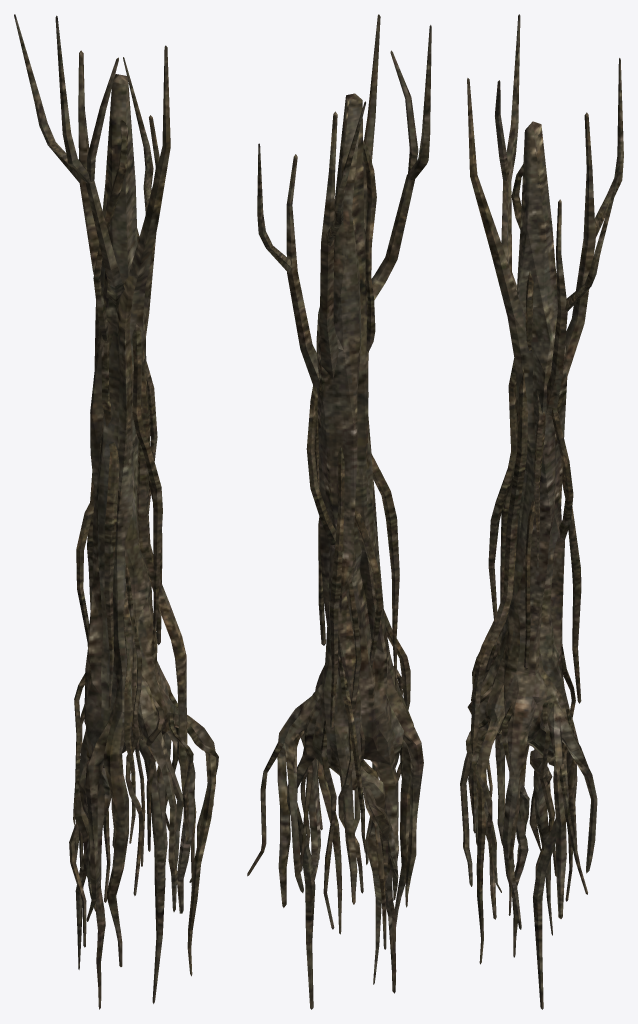
The model's file is bg_anh_tree_te_t01_01_sm_phs.FBX.
The picture shows the model from 3 angles, left to right: view 1: azimuth 30°, elevation 25°; view 2: azimuth 150°, elevation 25°; view 3: azimuth 270°, elevation 25°; orthographic projection. The views are drawn at different scales.
Visible parts, largest first — view 1: bg_anh_tree_te_t01_01_sm_phs; view 2: bg_anh_tree_te_t01_01_sm_phs; view 3: bg_anh_tree_te_t01_01_sm_phs.
Boxes of the visible parts, x1,y1,x2,y2 form: bg_anh_tree_te_t01_01_sm_phs: (14,14,218,1009); bg_anh_tree_te_t01_01_sm_phs: (247,14,431,1009); bg_anh_tree_te_t01_01_sm_phs: (460,14,623,1009).
Bounding box in the file's own units: 364 × 2341 × 367.
